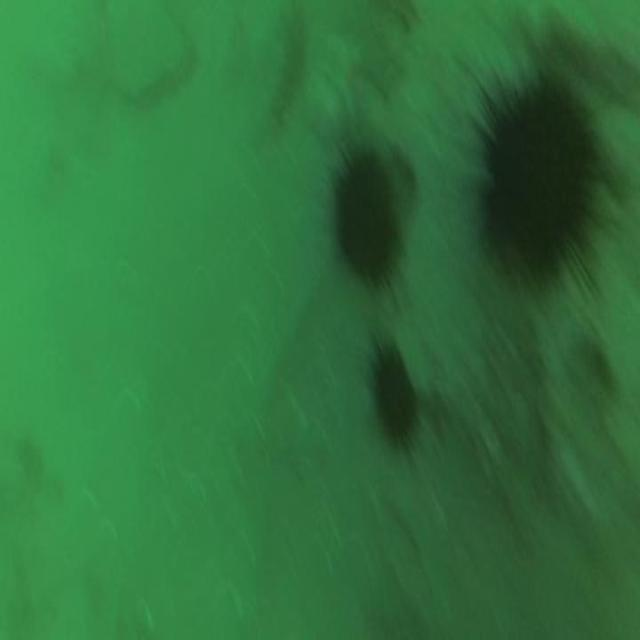echinus: (469, 62, 603, 298), (332, 138, 406, 286), (370, 343, 421, 447)
